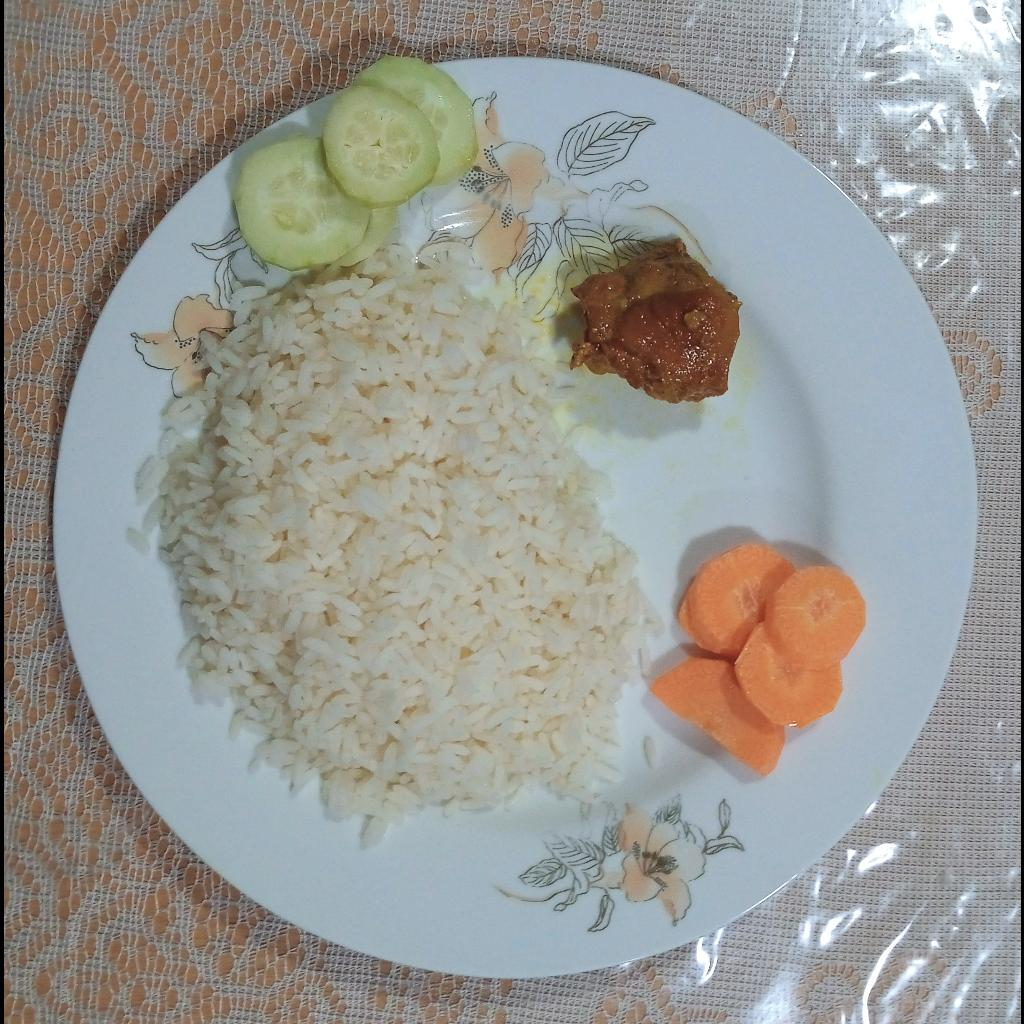carrot: (648, 540, 865, 781)
chicken: (567, 237, 741, 405)
cucumber: (230, 56, 478, 272)
rice: (123, 237, 660, 848)
